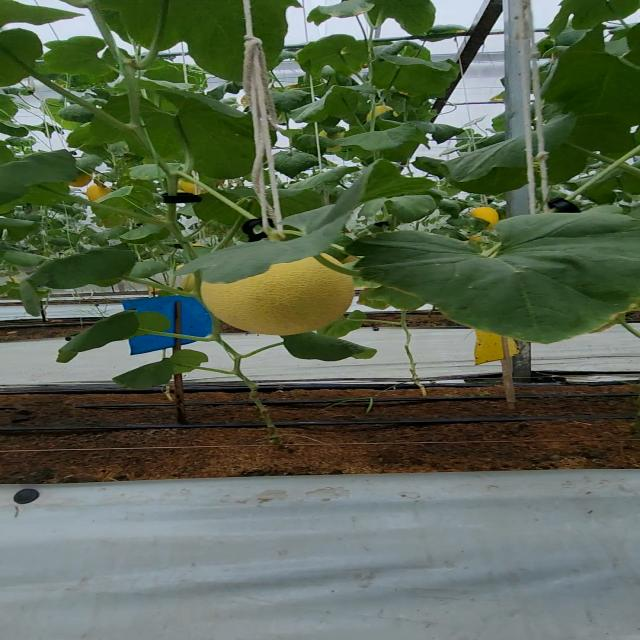Front-melon: (196, 271, 360, 330)
